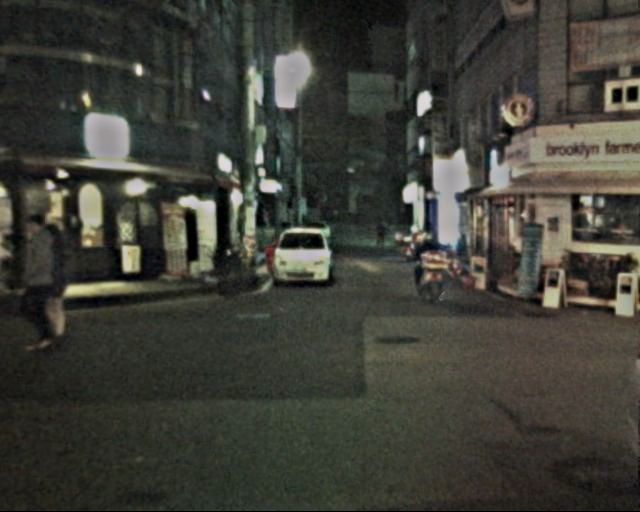person: (9, 209, 80, 353), (411, 232, 447, 308)
